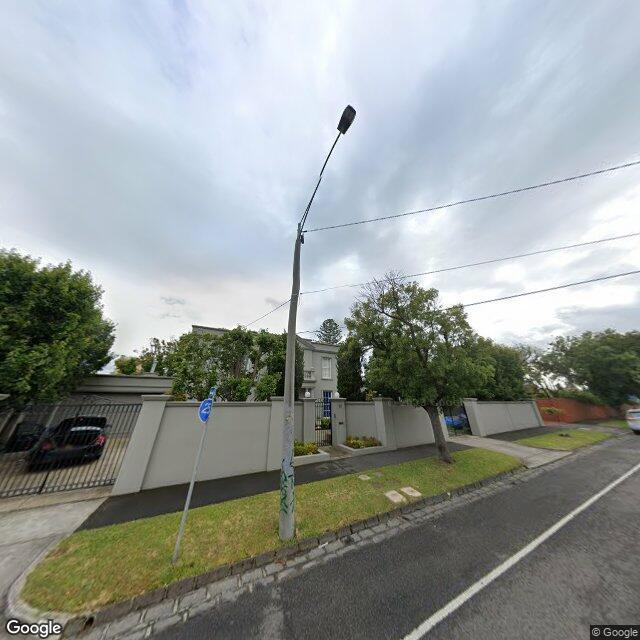streetlight: (298, 105, 357, 239)
timber-pole: (278, 240, 301, 542)
